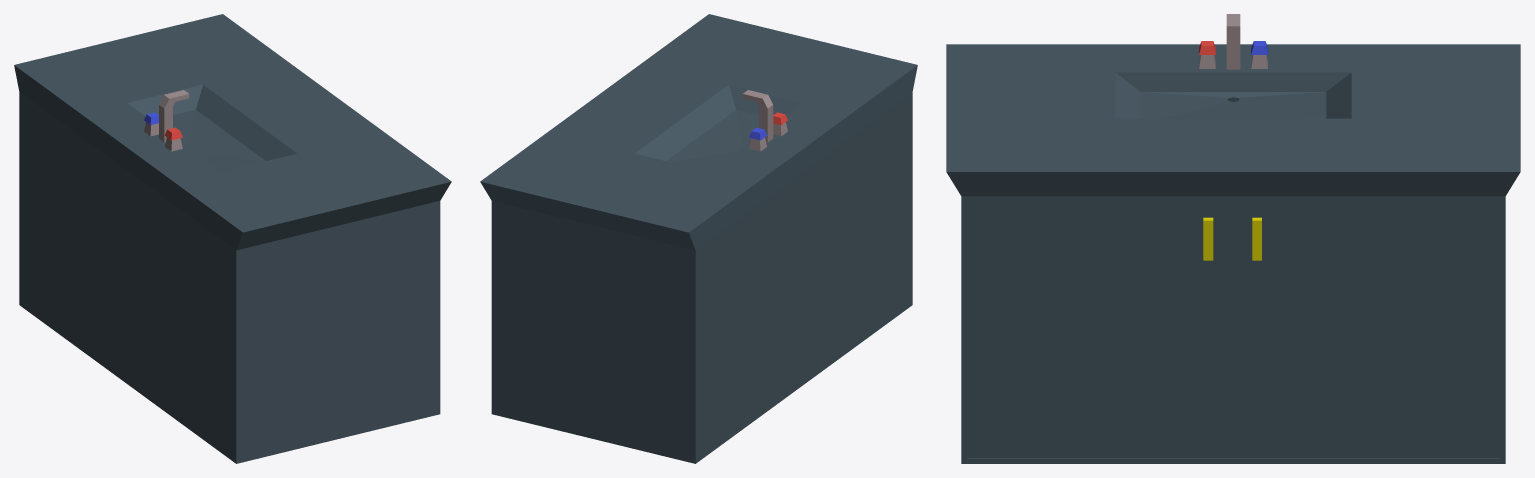
Rendered from bathroom_Sink.fbx.
The picture shows the model from 3 angles, left to right: view 1: azimuth 30°, elevation 25°; view 2: azimuth 150°, elevation 25°; view 3: azimuth 270°, elevation 25°; orthographic projection. The views are drawn at different scales.
Parts seen in each view (by area): view 1: Sink, Cube.006; view 2: Sink, Cube.006; view 3: Sink, Right Door, Left Door, Cube.006.
Part boxes in pixels (x1=…): Sink: x1=14, y1=14, x2=451, y2=463; Cube.006: x1=159, y1=90, x2=189, y2=142; Sink: x1=480, y1=14, x2=917, y2=463; Cube.006: x1=742, y1=90, x2=773, y2=142; Sink: x1=946, y1=44, x2=1520, y2=463; Right Door: x1=1233, y1=201, x2=1499, y2=457; Left Door: x1=967, y1=201, x2=1234, y2=457; Cube.006: x1=1226, y1=14, x2=1240, y2=69.
Bounding box in the file's own units: 205 × 261 × 389.
